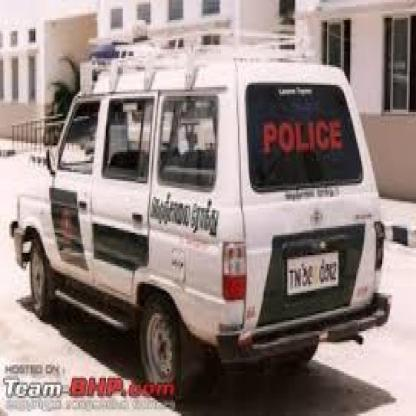priority: (7, 29, 406, 399)
